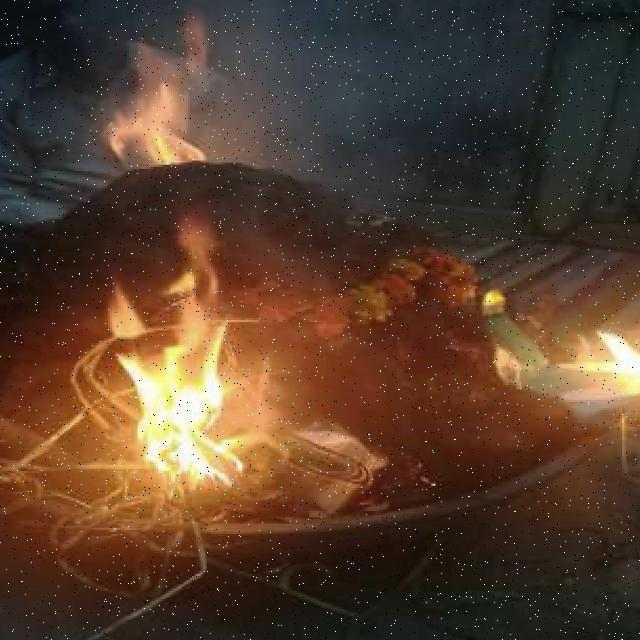fire: (87, 219, 249, 488), (96, 24, 220, 167), (551, 324, 640, 412)
smoke: (209, 0, 433, 295)
